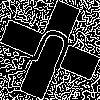U: (25, 25, 77, 82)
